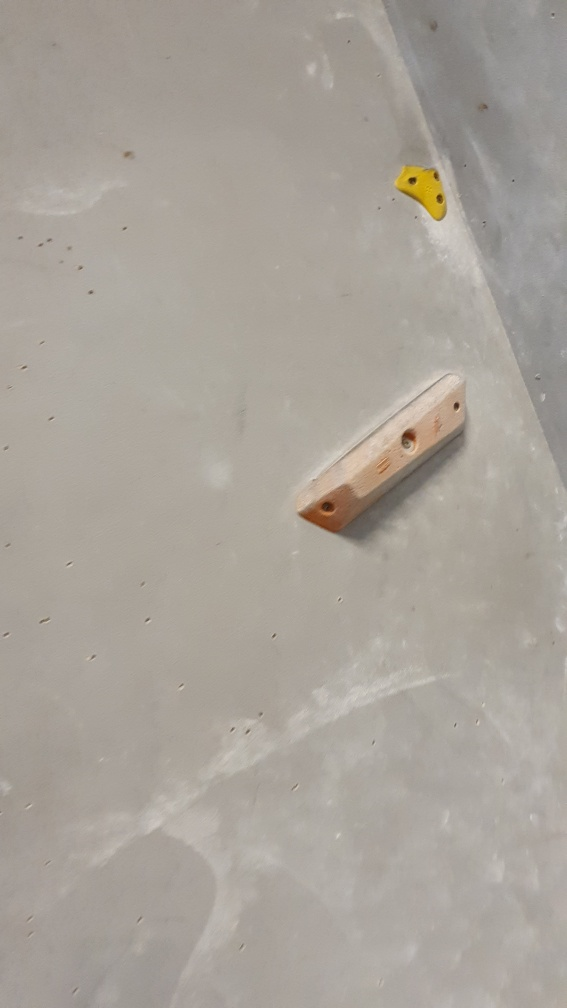Pinch: (294, 372, 471, 531)
